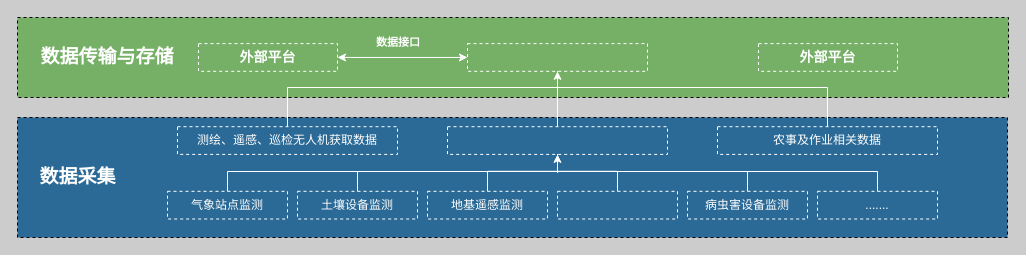
This 1026x255 diagram has some shape labels left out. The shapes that lost their labels are listed below. From the top down, each one's centre as x and y in pixels, then its label:
At (x=557, y=57): "数据存储中心".
At (x=557, y=140): "物联网传感器获取数据".
At (x=617, y=204): "视频设备监控".
